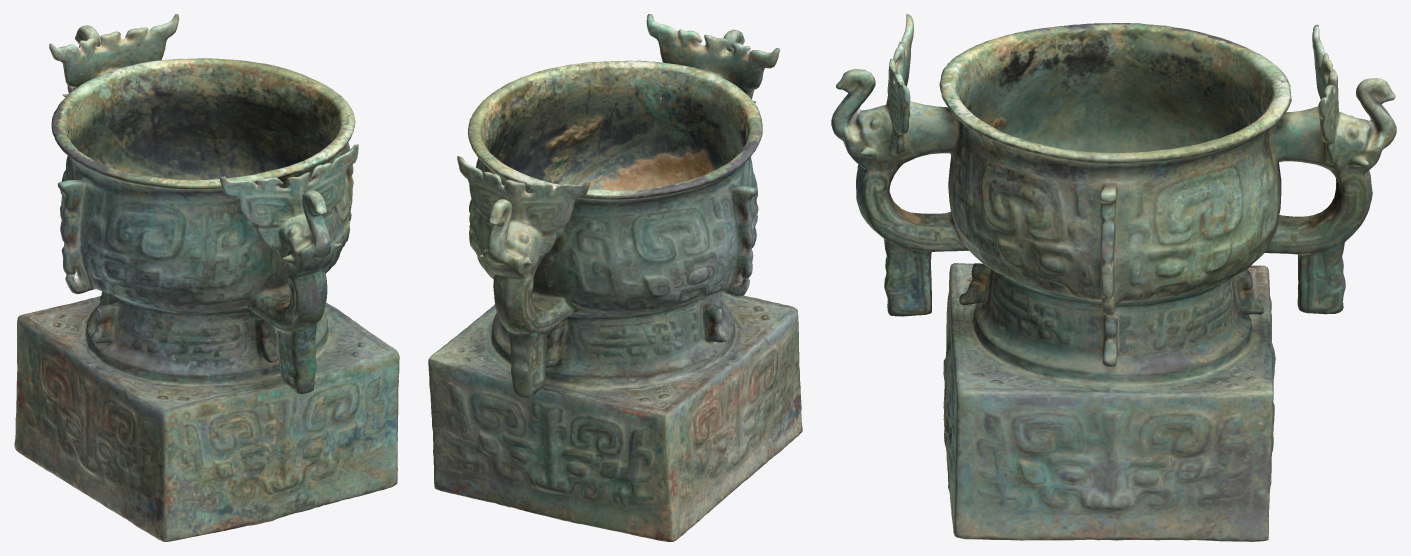
Rendered from foodvessel.gltf.
3 views of the same model, side by side, from view 1: azimuth 30°, elevation 25°; view 2: azimuth 150°, elevation 25°; view 3: azimuth 270°, elevation 25° (orthographic). The views are drawn at different scales.
Parts seen in each view (by area): view 1: LP_150804_mia337_001141_1Mfaces_OBJ.001; view 2: LP_150804_mia337_001141_1Mfaces_OBJ.001; view 3: LP_150804_mia337_001141_1Mfaces_OBJ.001.
Part boxes in pixels (x1,y1,x2,y2): LP_150804_mia337_001141_1Mfaces_OBJ.001: (14, 14, 399, 541); LP_150804_mia337_001141_1Mfaces_OBJ.001: (428, 14, 802, 541); LP_150804_mia337_001141_1Mfaces_OBJ.001: (831, 14, 1396, 541).
Bounding box in the file's own units: 3.49 × 4.39 × 5.28.
1 material, 1 textured.
